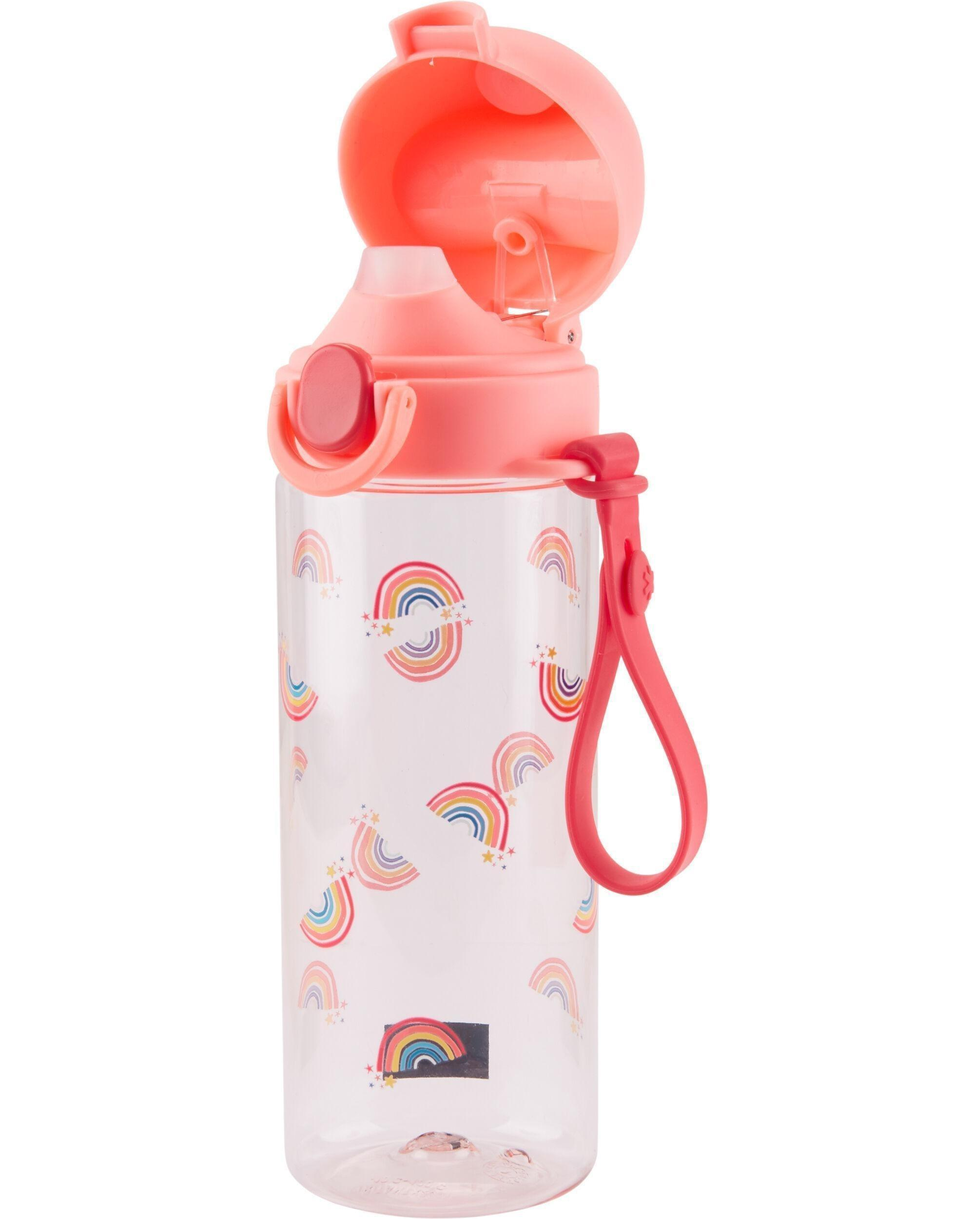gym bottle: (262, 0, 646, 1219)
